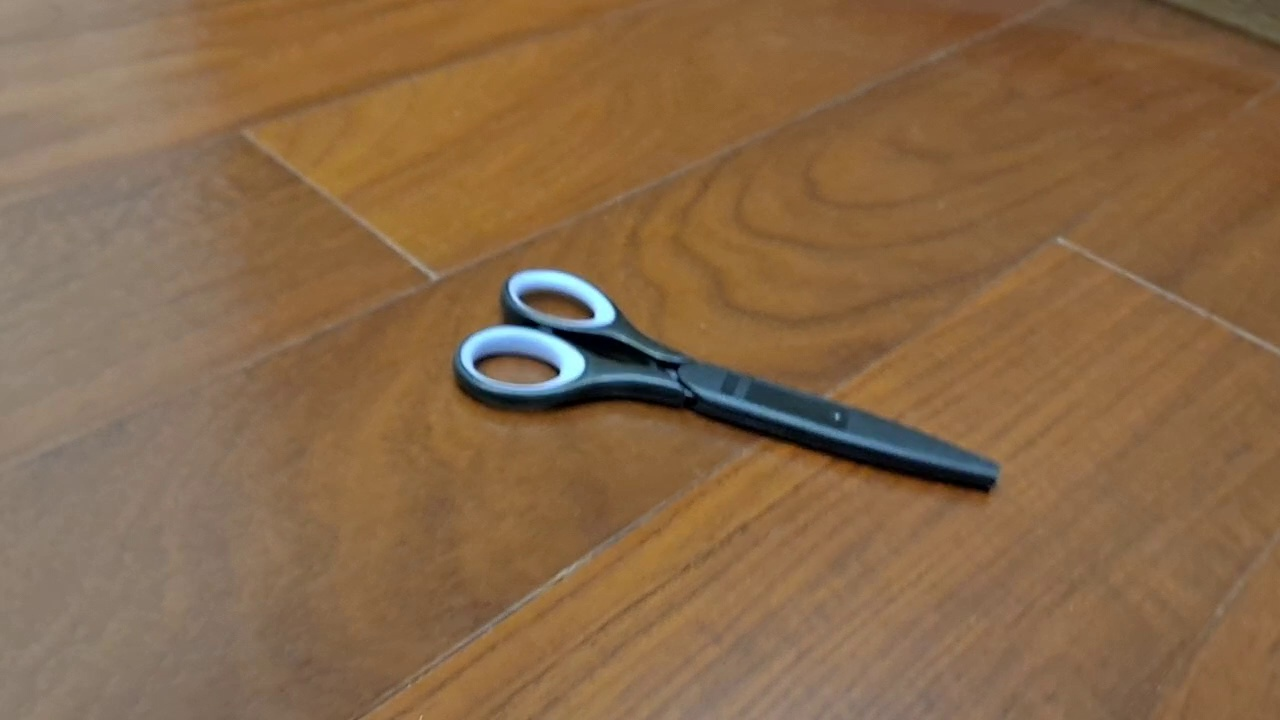scissors: (452, 268, 1002, 497)
